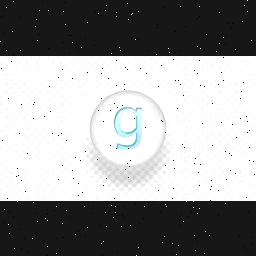g: (106, 104, 144, 150)
